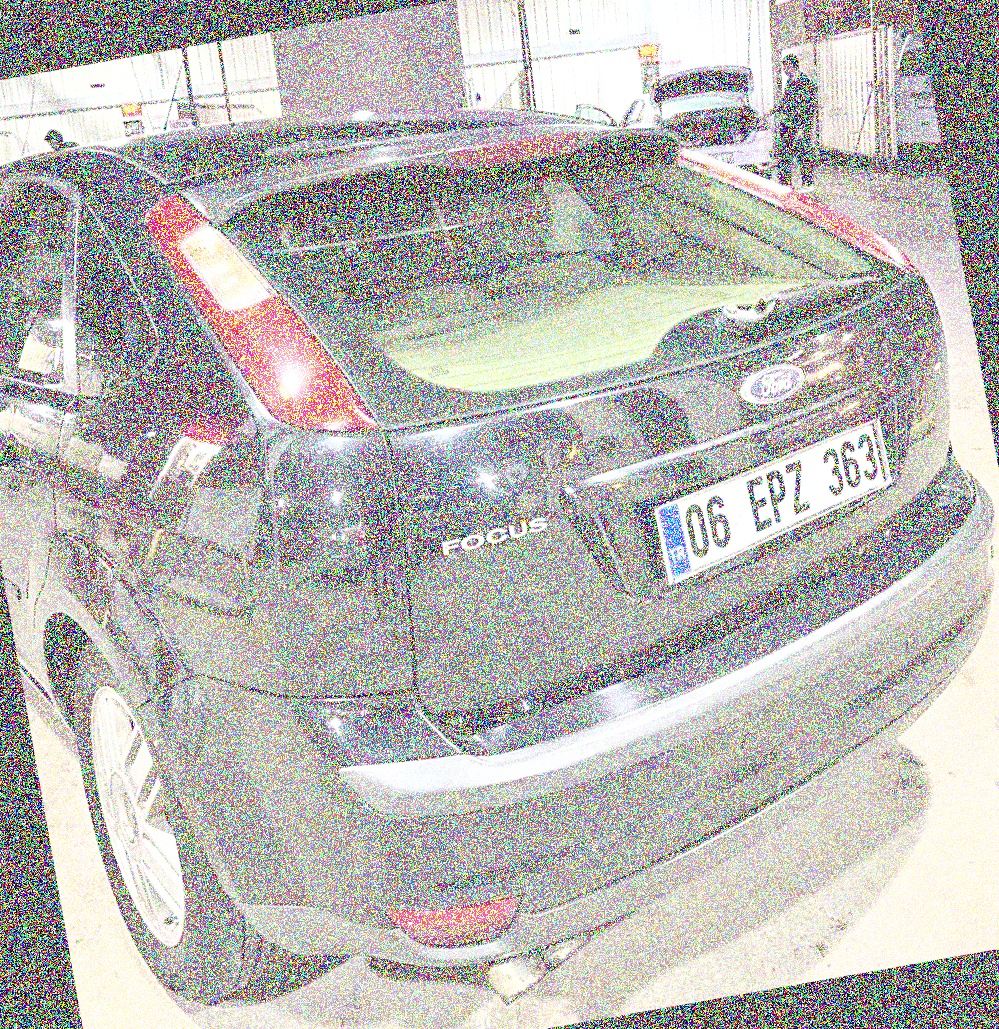plaka: (678, 426, 897, 578)
